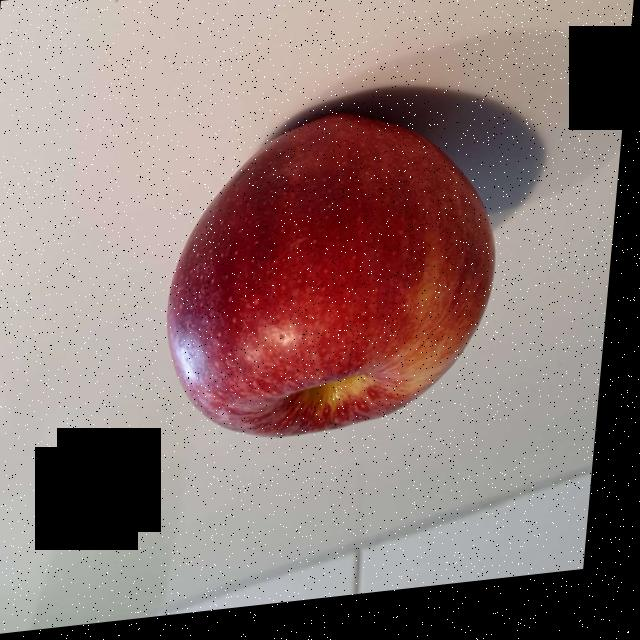apple: (174, 128, 498, 441)
